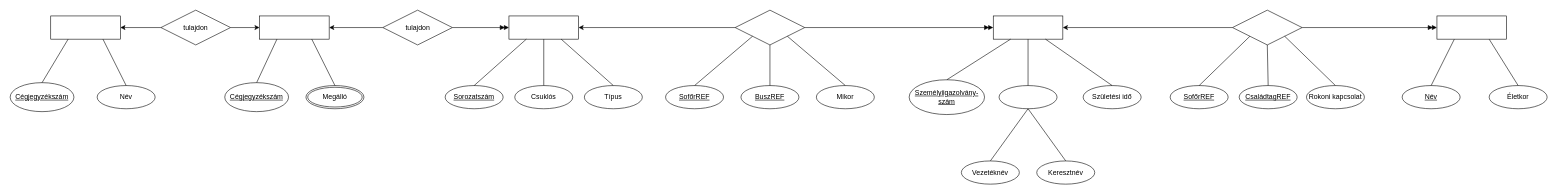
This 1557x194 diagram has some shape labels left out. The box of each missing label's shape, as (x1, y1, x2, y2) in pixels:
Busz: (508, 15, 579, 39)
Családtag: (1436, 15, 1507, 39)
MVK: (259, 15, 329, 39)
Rokon: (1232, 10, 1302, 45)
Sofőr: (993, 15, 1063, 39)
Teljes név: (998, 85, 1057, 109)
Tulajdonos: (50, 15, 120, 39)
vezet: (735, 10, 805, 45)
